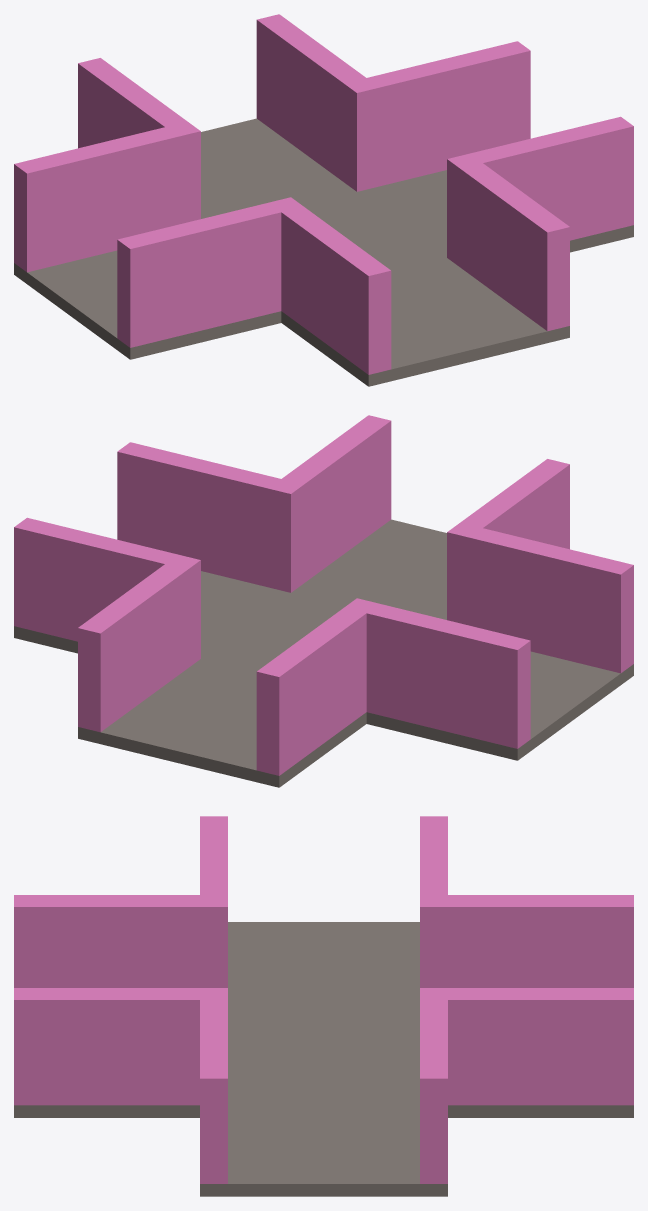
The model's file is X_way.fbx.
The picture shows the model from 3 angles, top to bottom: view 1: azimuth 30°, elevation 25°; view 2: azimuth 150°, elevation 25°; view 3: azimuth 270°, elevation 25°; orthographic projection. The views are drawn at different scales.
Parts seen in each view (by area): view 1: X_way; view 2: X_way; view 3: X_way.
Part boxes in pixels (x1=…): X_way: x1=14, y1=14, x2=633, y2=386; X_way: x1=14, y1=415, x2=633, y2=787; X_way: x1=14, y1=816, x2=633, y2=1196.
Bounding box in the file's own units: 2000 × 420 × 2000.
